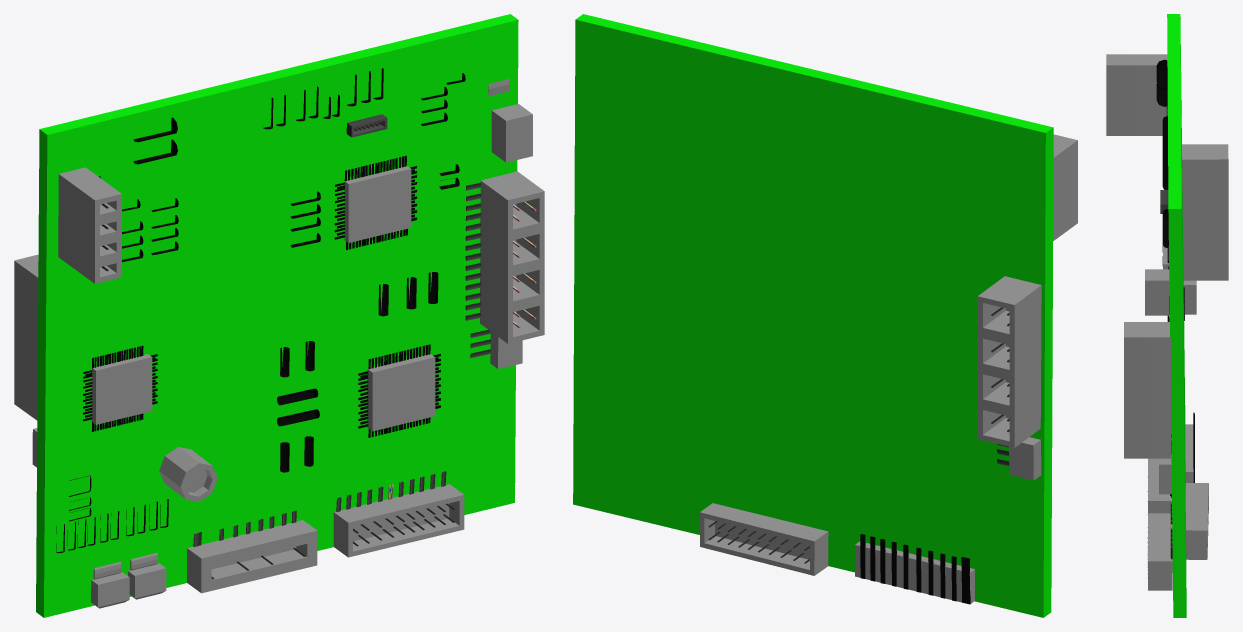
Rendered from SM_Int_CircuitBoard.fbx.
3 renders of one model, left to right at view 1: azimuth 30°, elevation 25°; view 2: azimuth 150°, elevation 25°; view 3: azimuth 270°, elevation 25°, orthographic. The views are drawn at different scales.
Visible parts, largest first — view 1: SM_Int_CircuitBoard; view 2: SM_Int_CircuitBoard; view 3: SM_Int_CircuitBoard.
Boxes of the visible parts, <box> form: SM_Int_CircuitBoard: <box>14,14,544,617</box>; SM_Int_CircuitBoard: <box>573,14,1077,617</box>; SM_Int_CircuitBoard: <box>1106,14,1228,617</box>.
Bounding box in the file's own units: 97.86 × 95.99 × 25.9.
